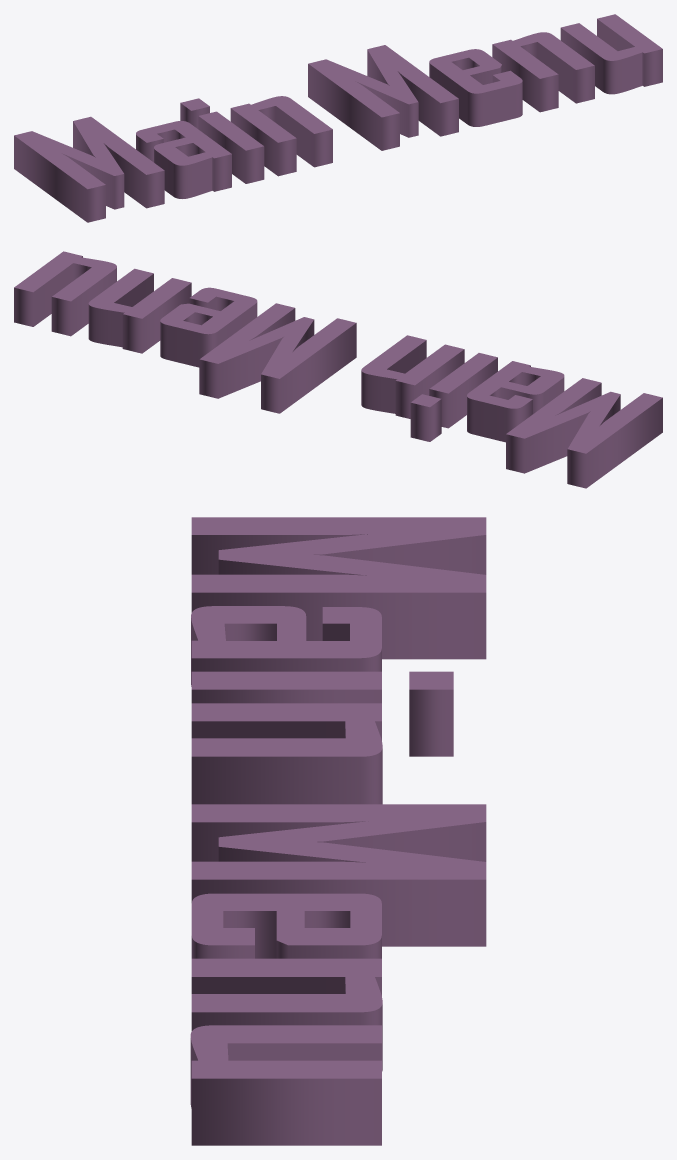
Rendered from Main Menu.fbx.
3 views of the same model, one above another, from view 1: azimuth 30°, elevation 25°; view 2: azimuth 150°, elevation 25°; view 3: azimuth 270°, elevation 25° (orthographic). The views are drawn at different scales.
Parts seen in each view (by area): view 1: Text; view 2: Text; view 3: Text.
Part boxes in pixels (x1,y1,x2,y2): Text: [14, 14, 662, 222]; Text: [14, 251, 662, 488]; Text: [190, 517, 486, 1145].
Bounding box in the file's own units: 288 × 16 × 64.07.
